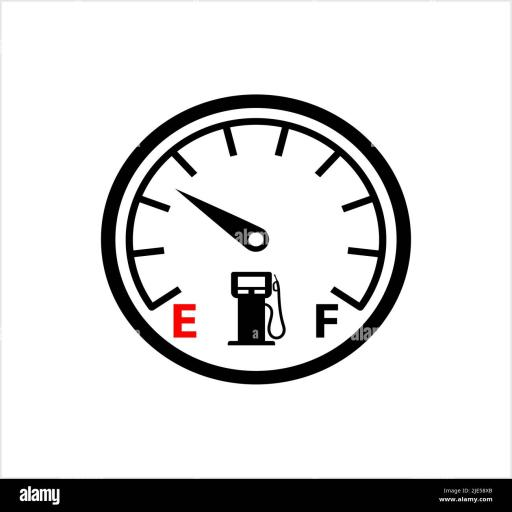empty: (172, 302, 198, 340)
fuel_icon: (225, 266, 287, 348)
full: (312, 298, 340, 340)
guage_area: (121, 124, 388, 364)
needle_center: (236, 220, 272, 256)
needle_tip: (169, 185, 196, 205)
